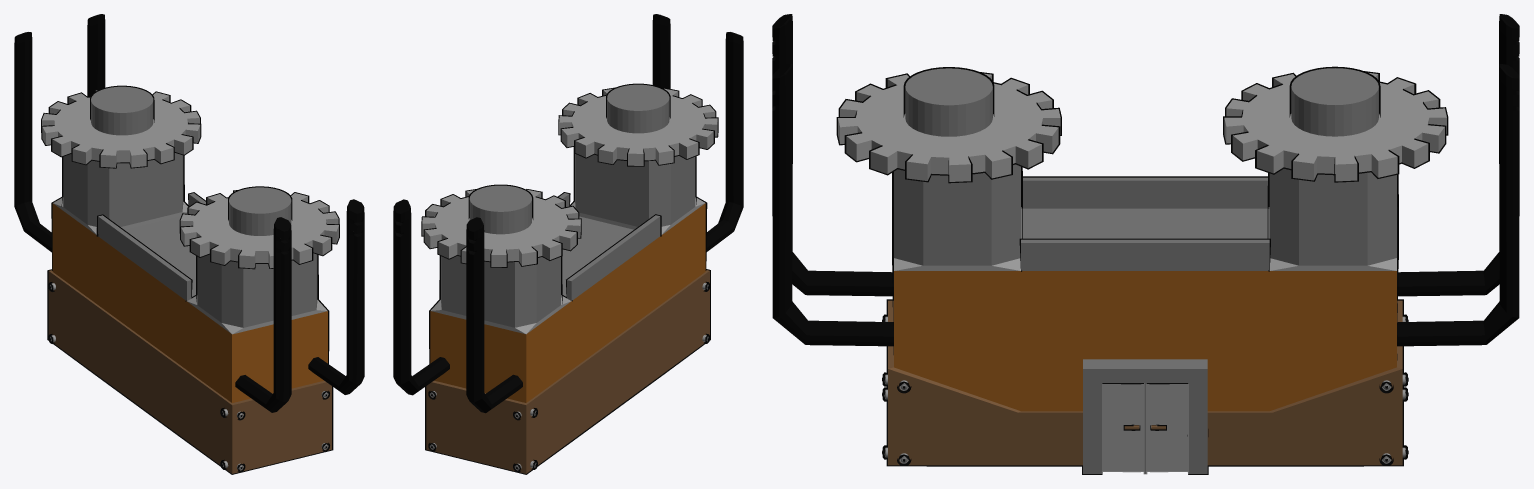
File: fortaleza3.fbx
The picture shows the model from 3 angles, left to right: view 1: azimuth 30°, elevation 25°; view 2: azimuth 150°, elevation 25°; view 3: azimuth 270°, elevation 25°; orthographic projection. The views are drawn at different scales.
Parts seen in each view (by area): view 1: Base, Cogs; view 2: Base, Cogs; view 3: Base, Door, Cogs.
Part boxes in pixels (x1,y1,x2,y2): Base: (14,14,364,474); Cogs: (48,282,329,472); Base: (393,14,743,474); Cogs: (428,281,710,472); Base: (772,14,1519,466); Door: (1082,359,1208,474); Cogs: (882,314,1408,466).
Bounding box in the file's own units: 3004 × 912 × 1737.
